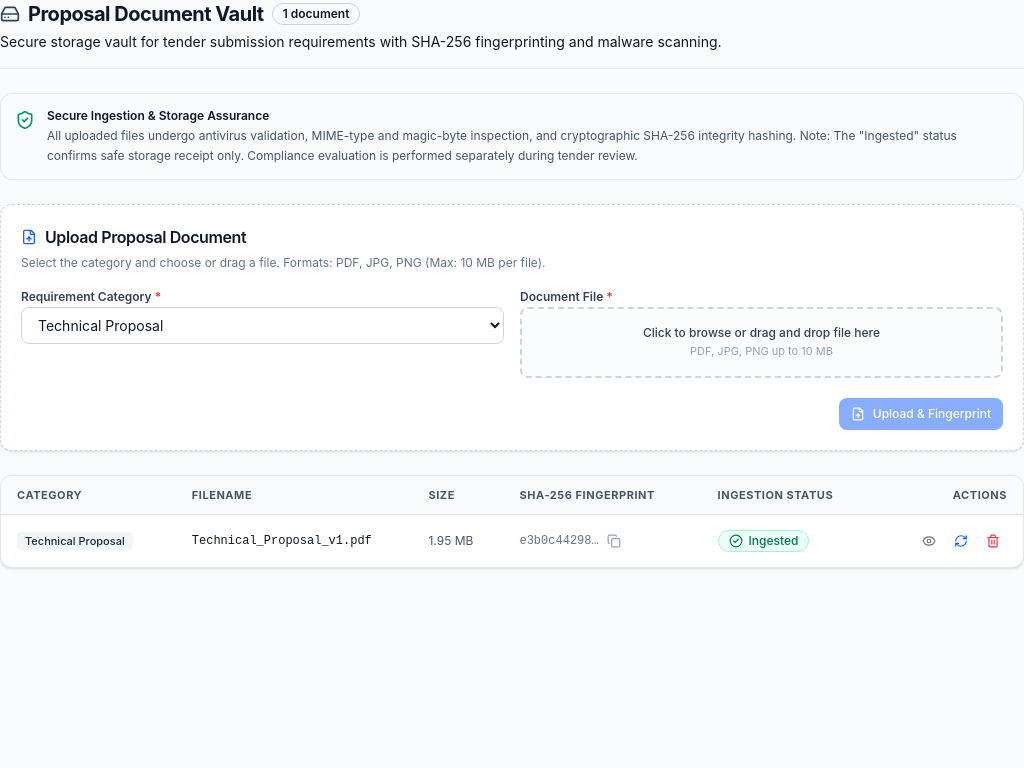
Test: Phase 08 — BidDocumentWorkspace Integration Tests › opens metadata inspector modal with full provenance details
The image size is (1024, 768).
Click the button titled "Inspect document metadata".
click(929, 541)  # box [915,527,943,555]
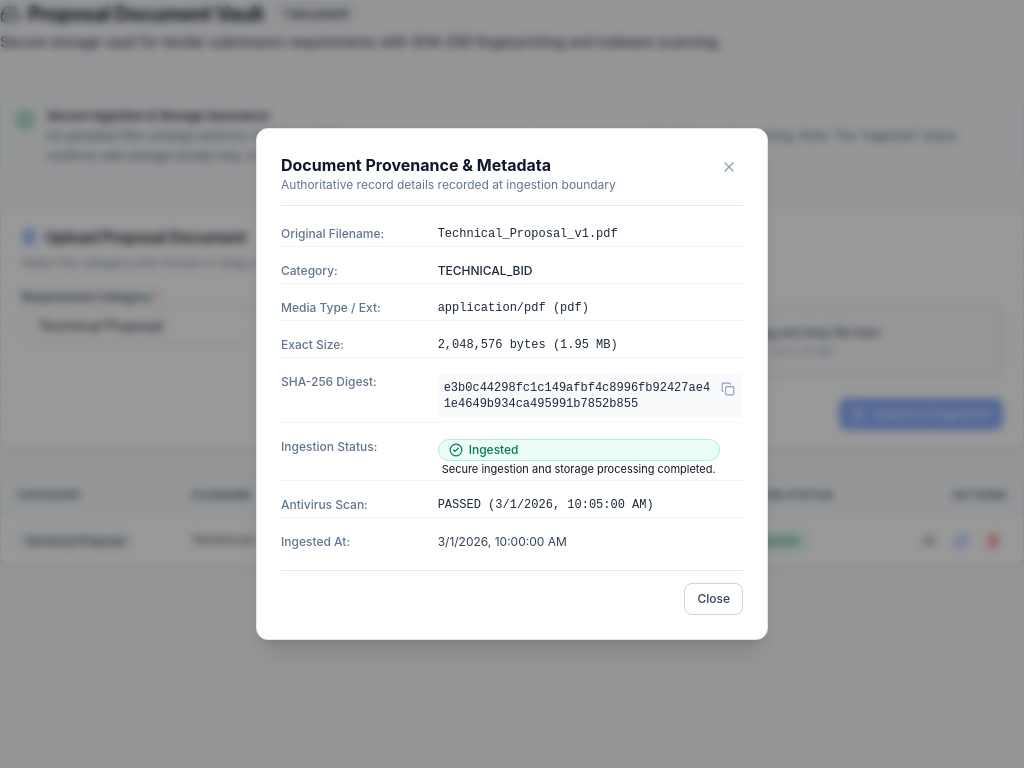
Check: the heading "Document Provenance & Metadata" is shown, box [281,155,551,175]
Check: the text "e3b0c44298fc1c149afbf4c8996fb92427ae41e4649b934ca495991b7852b855" is shown, box [444,380,715,412]
Check: the text "PASSED (3/1/2026, 10:05:00 AM)" is shown, box [438,498,654,512]
